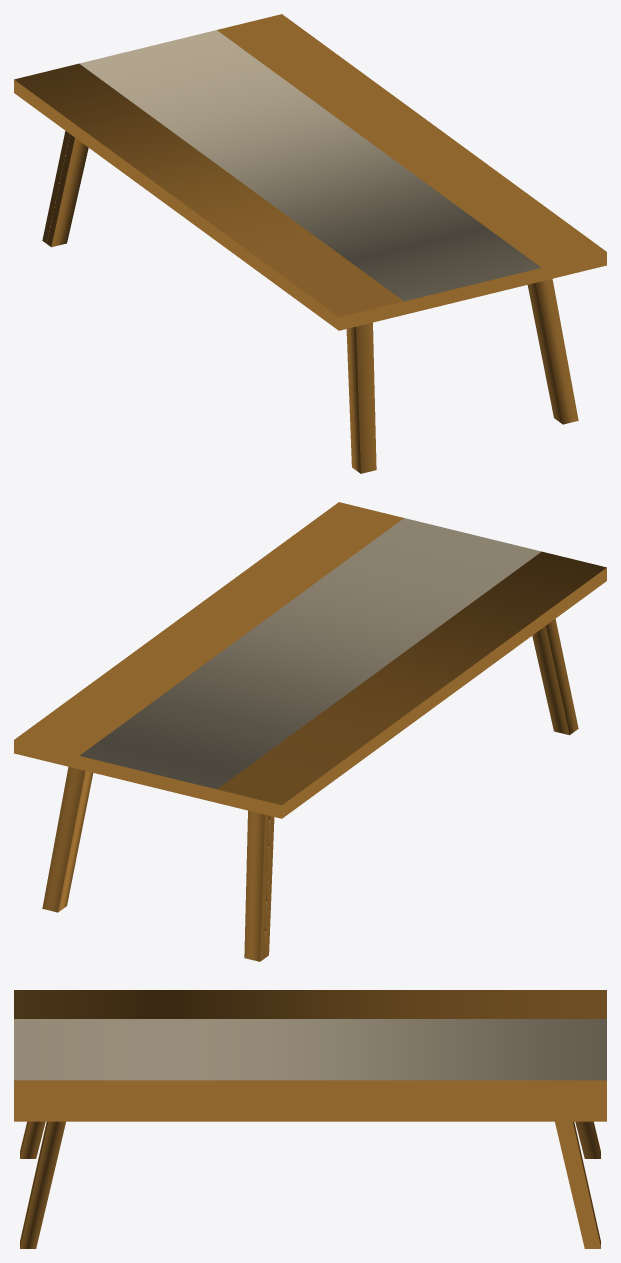
File: dining table_v01.fbx
3 renders of one model, top to bottom at view 1: azimuth 30°, elevation 25°; view 2: azimuth 150°, elevation 25°; view 3: azimuth 270°, elevation 25°, orthographic. The views are drawn at different scales.
Visible parts, largest first — view 1: Table_01; view 2: Table_01; view 3: Table_01.
Part boxes in pixels (x1,y1,x2,y2): Table_01: (14, 14, 606, 473); Table_01: (14, 502, 606, 961); Table_01: (14, 990, 606, 1248).
Bounding box in the file's own units: 156 × 92 × 328.
